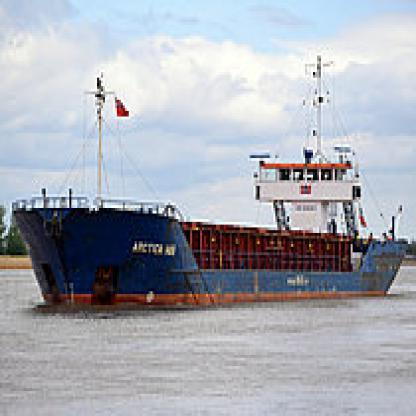Container Ship: (11, 53, 408, 308)
